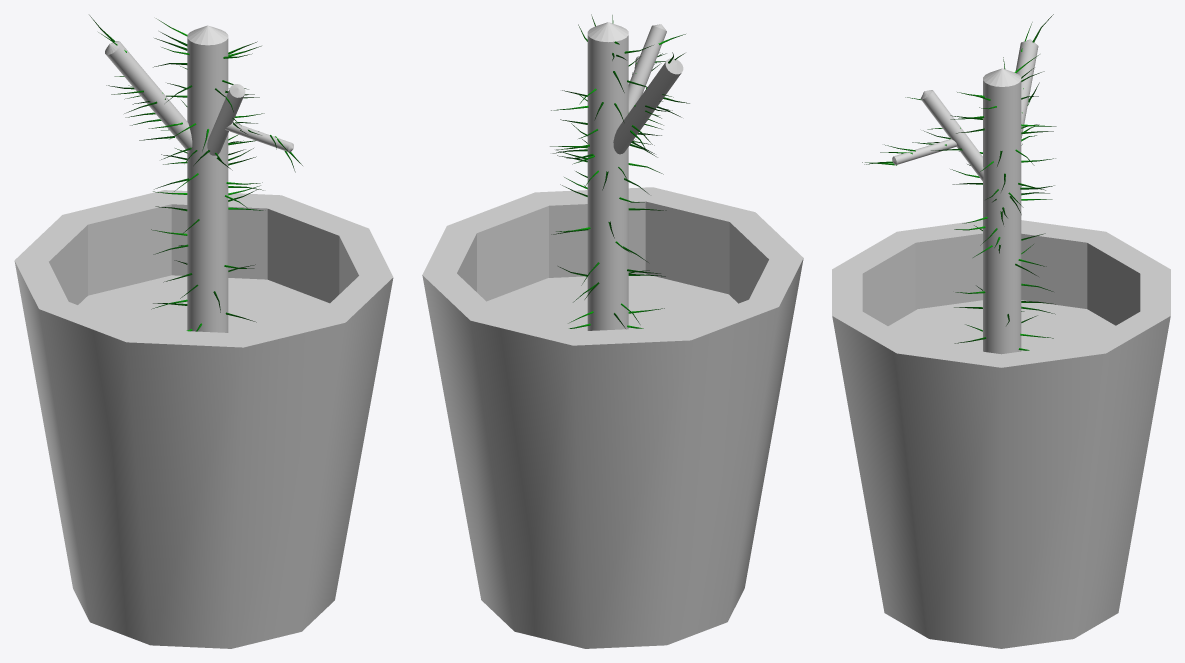
File: cactus 3.fbx
The picture shows the model from 3 angles, left to right: view 1: azimuth 30°, elevation 25°; view 2: azimuth 150°, elevation 25°; view 3: azimuth 270°, elevation 25°; orthographic projection. The views are drawn at different scales.
Parts seen in each view (by area): view 1: Pot, Cylinder001, Dirt/soil, Object001; view 2: Pot, Cylinder001, Dirt/soil, Object001; view 3: Pot, Cylinder001, Dirt/soil, Object001.
Part boxes in pixels (x1=…): Pot: x1=14, y1=190, x2=393, y2=648; Cylinder001: x1=105, y1=25, x2=293, y2=332; Dirt/soil: x1=78, y1=275, x2=329, y2=333; Object001: x1=89, y1=15, x2=302, y2=331; Pot: x1=422, y1=187, x2=803, y2=648; Cylinder001: x1=587, y1=22, x2=683, y2=330; Dirt/soil: x1=486, y1=273, x2=737, y2=331; Object001: x1=550, y1=14, x2=689, y2=328; Pot: x1=832, y1=220, x2=1170, y2=648; Cylinder001: x1=892, y1=39, x2=1038, y2=354; Dirt/soil: x1=888, y1=300, x2=1115, y2=351; Object001: x1=862, y1=14, x2=1056, y2=350.
Bounding box in the file's own units: 19.01 × 31.99 × 18.08.
